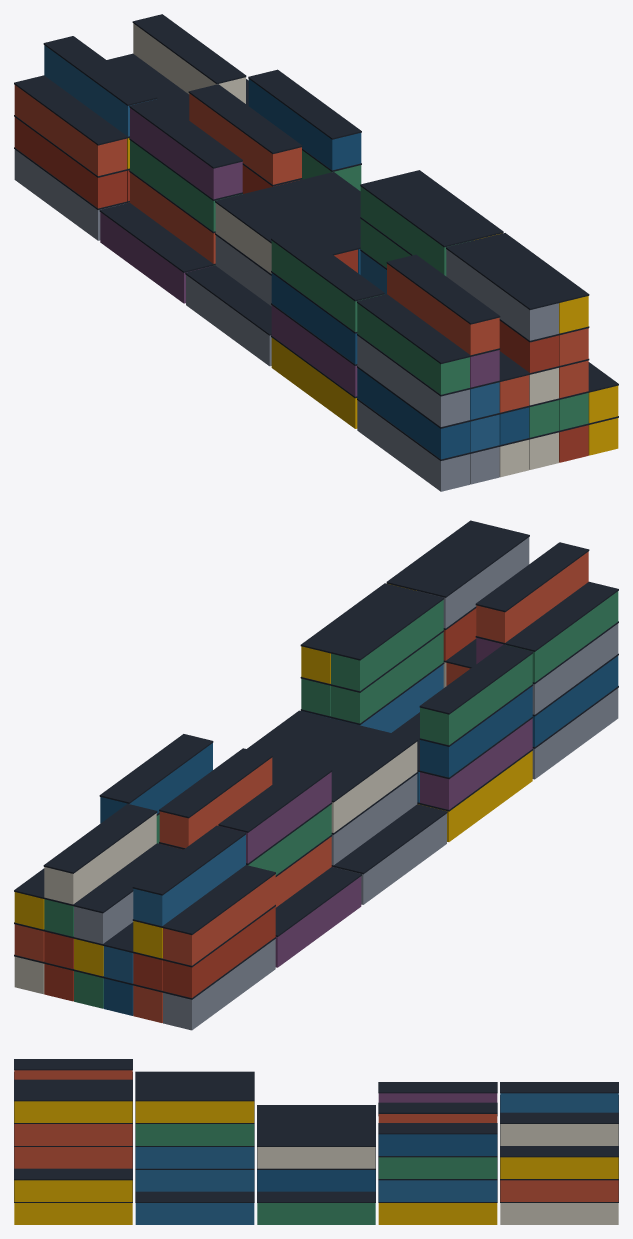
Rendered from container_block_c.glb.
The picture shows the model from 3 angles, top to bottom: view 1: azimuth 30°, elevation 25°; view 2: azimuth 150°, elevation 25°; view 3: azimuth 270°, elevation 25°; orthographic projection. The views are drawn at different scales.
Parts seen in each view (by area): view 1: block; view 2: block; view 3: block.
Boxes of the visible parts, left/top/right/bottom form: block: left=14, top=14, right=618, bottom=491; block: left=14, top=520, right=618, bottom=1030; block: left=14, top=1059, right=618, bottom=1224.
Bounding box in the file's own units: 15 × 13.01 × 62.25.
